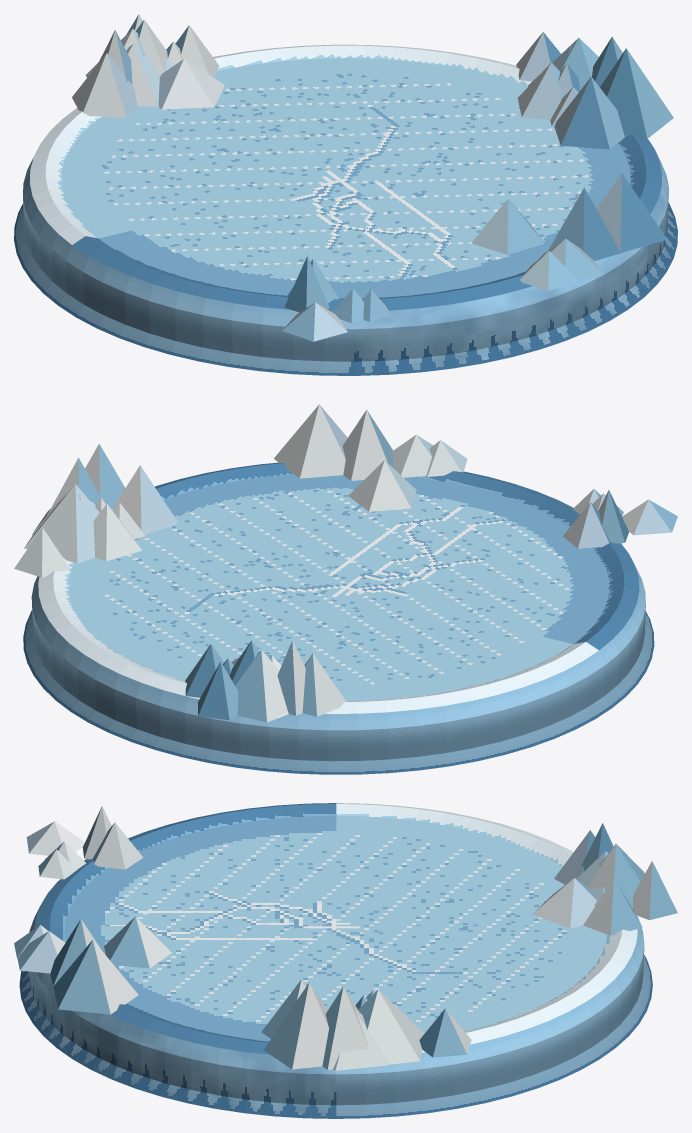
The model's file is platform_ice.glb.
The picture shows the model from 3 angles, top to bottom: view 1: azimuth 30°, elevation 25°; view 2: azimuth 150°, elevation 25°; view 3: azimuth 270°, elevation 25°; orthographic projection. The views are drawn at different scales.
Visible parts, largest first — view 1: platform_ice, plat_ice; view 2: platform_ice, plat_ice; view 3: platform_ice, plat_ice.
Boxes of the visible parts, x1,y1,x2,y2 form: platform_ice: [14, 44, 677, 375]; plat_ice: [72, 14, 673, 341]; platform_ice: [23, 462, 654, 774]; plat_ice: [14, 404, 677, 722]; platform_ice: [19, 803, 652, 1118]; plat_ice: [14, 806, 677, 1070].
Bounding box in the file's own units: 2.17 × 0.464 × 2.2.
Materials: 3 (2 with a texture image).
